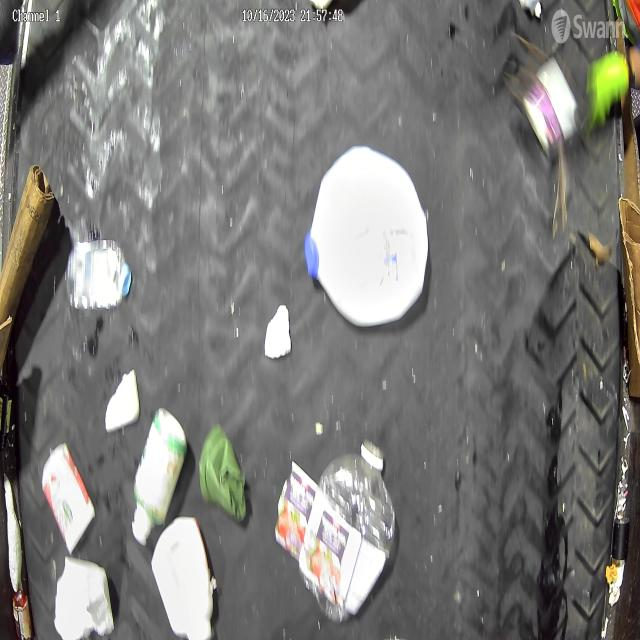milk_jug: (302, 144, 430, 327)
plastic_bottle: (298, 436, 398, 626), (63, 242, 133, 312)
